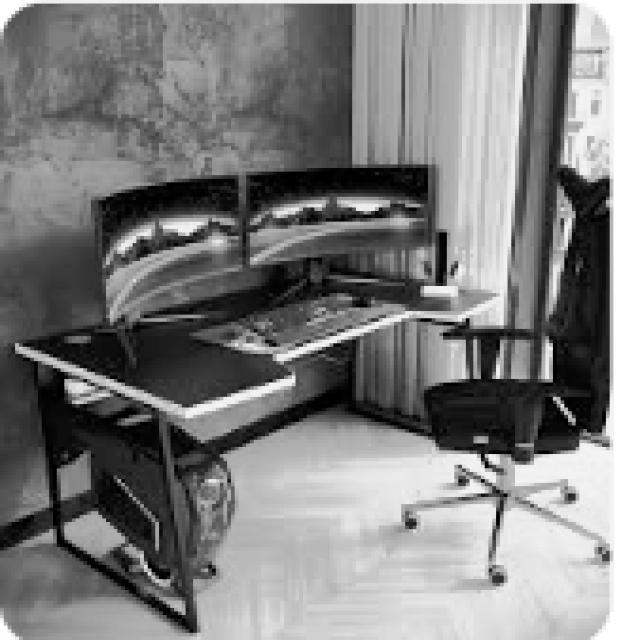book: (398, 161, 610, 583)
table: (11, 272, 500, 629)
